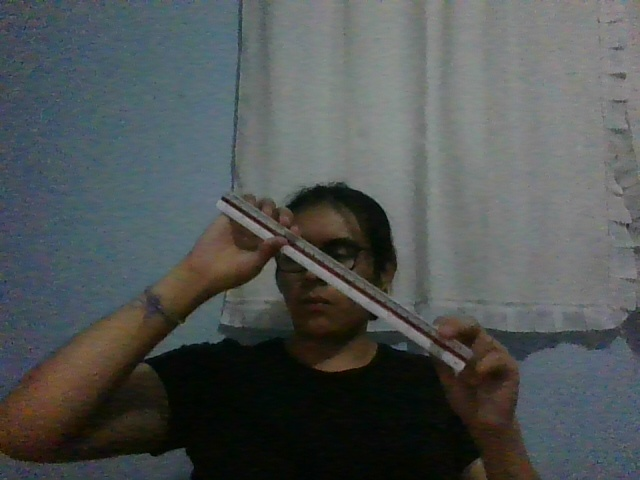regla: (215, 192, 474, 374)
